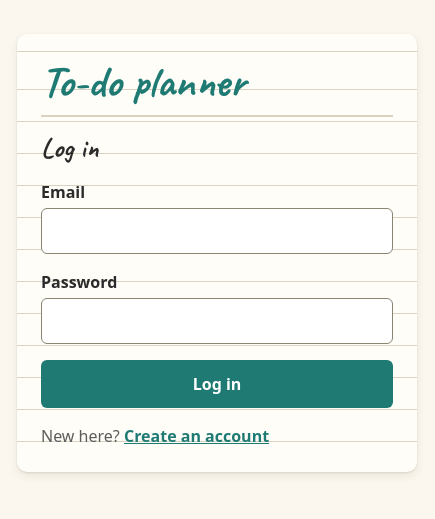
US2 Log in / log out › AC2.2 wrong credentials show one generic error and stay on the page
The image size is (435, 519).
Type "sam@example.com" into the field labelled "Email" at (217,231), box left=41, top=208, right=393, bottom=254
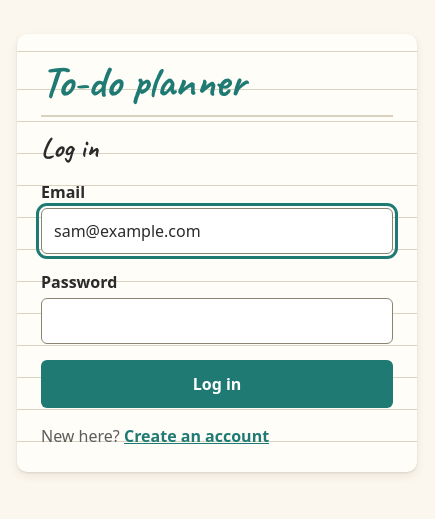
Type "wrong password" into the password field labelled "Password" at (217,321), box left=41, top=298, right=393, bottom=344
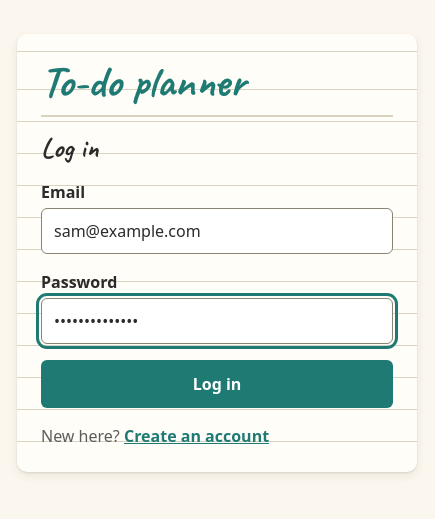
Click the button "Log in" at (217,384), box left=41, top=360, right=393, bottom=408
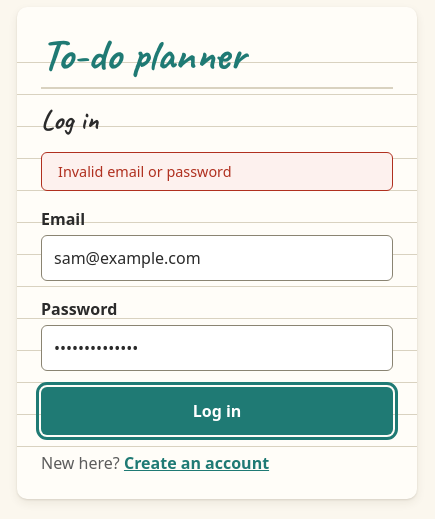
Expected: the heading "Log in" is shown, left=41, top=102, right=98, bottom=137
Expected: the message reads "Invalid email or password", left=58, top=162, right=232, bottom=181
